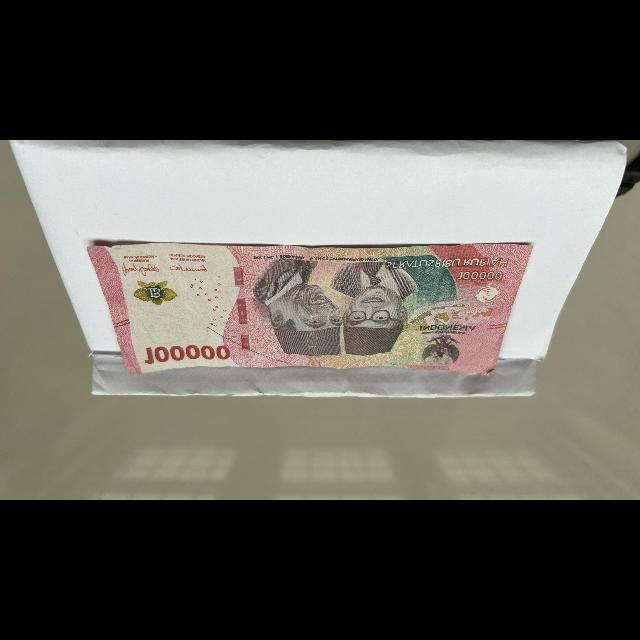Palsu-100k: (82, 240, 535, 379)
Tinta-Palsu-100k: (128, 277, 182, 308)
